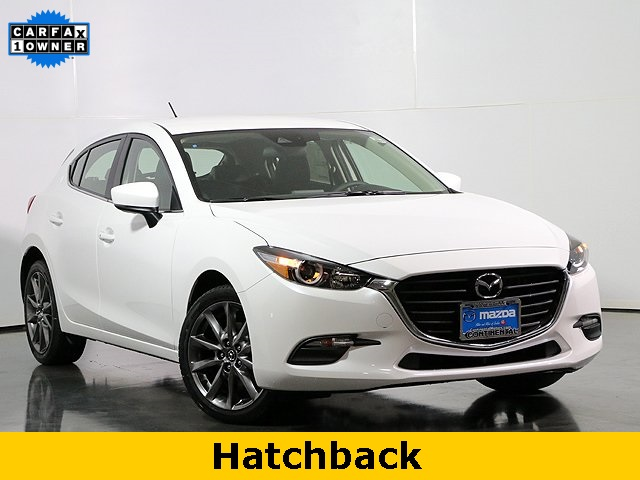Mazda3 Hatchback: (18, 116, 603, 425)
